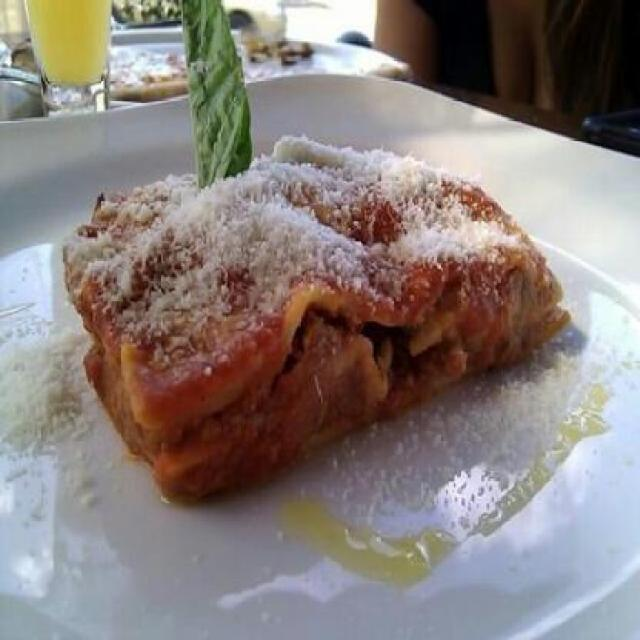Lasagna: (54, 139, 577, 507)
